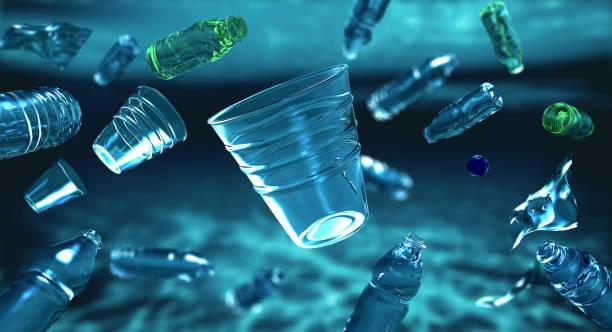Plastic: (345, 236, 433, 332), (370, 51, 465, 129), (142, 13, 252, 80), (538, 240, 612, 332), (0, 83, 88, 160), (419, 84, 507, 145), (106, 243, 219, 287), (483, 0, 530, 75), (338, 0, 388, 65), (91, 31, 142, 86), (543, 100, 603, 143)
